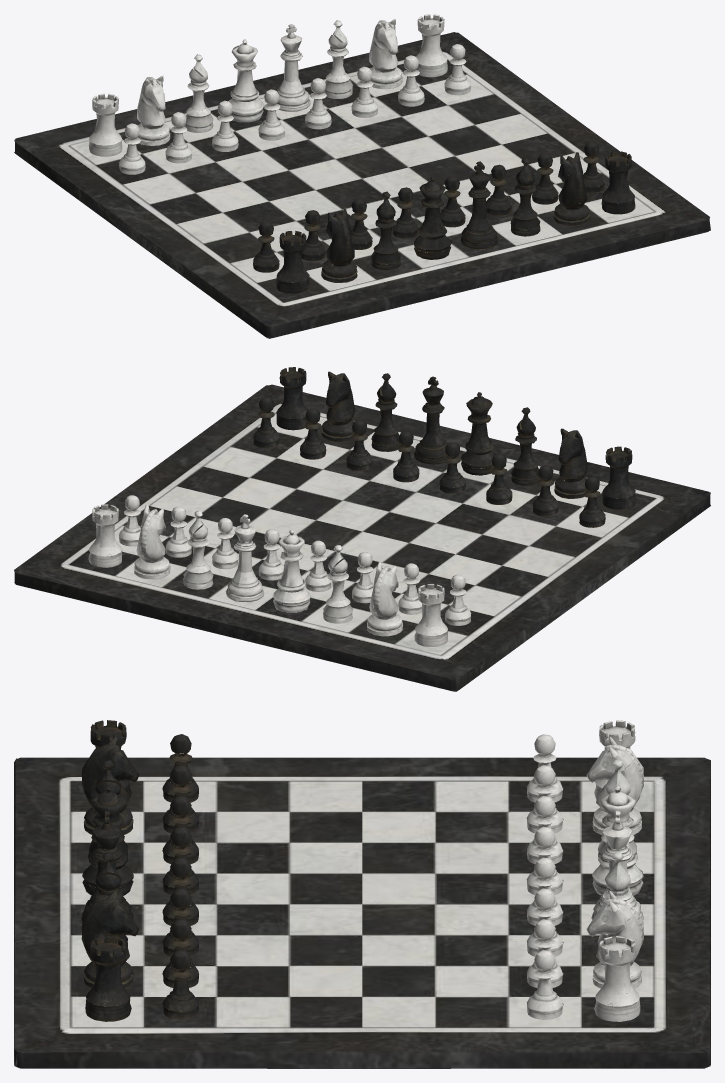
The model's file is ph_chess_set.glb.
3 views of the same model, one above another, from view 1: azimuth 30°, elevation 25°; view 2: azimuth 150°, elevation 25°; view 3: azimuth 270°, elevation 25° (orthographic). The views are drawn at different scales.
Visible parts, largest first — view 1: piece_rook_white_01; view 2: piece_rook_white_01; view 3: piece_rook_white_01.
Boxes of the visible parts, box(x1,y1,x2,y2) form: piece_rook_white_01: box(14, 14, 710, 338); piece_rook_white_01: box(14, 367, 710, 691); piece_rook_white_01: box(14, 720, 710, 1068).
Size of the model in its own units: 0.5532 by 0.1121 by 0.5532.
3 materials, 3 textured.
